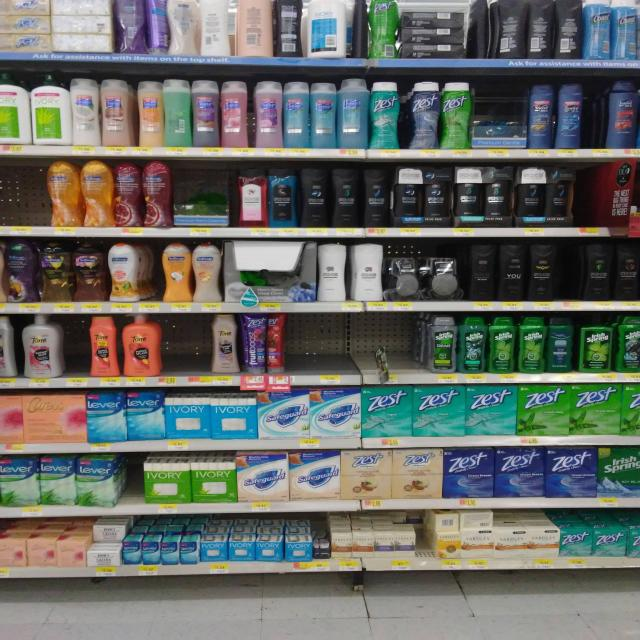void: (0, 160, 37, 238), (166, 318, 204, 392), (328, 314, 362, 392), (569, 166, 602, 244), (366, 314, 394, 394), (296, 316, 324, 390), (399, 314, 427, 388), (611, 161, 636, 240), (561, 245, 583, 312), (128, 453, 143, 514)
